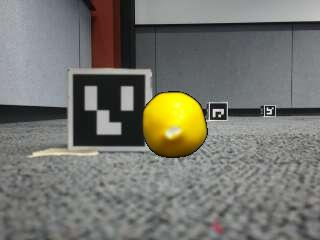lemon: (143, 93, 205, 158)
